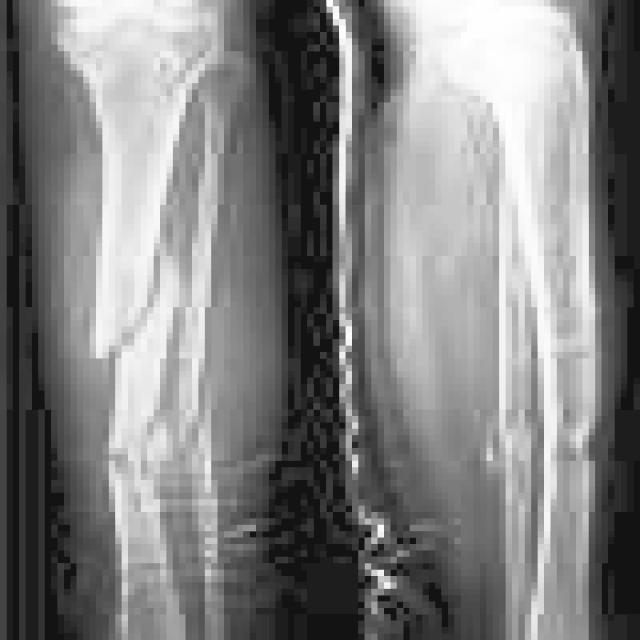Comminuted Fracture: (92, 251, 203, 353)
